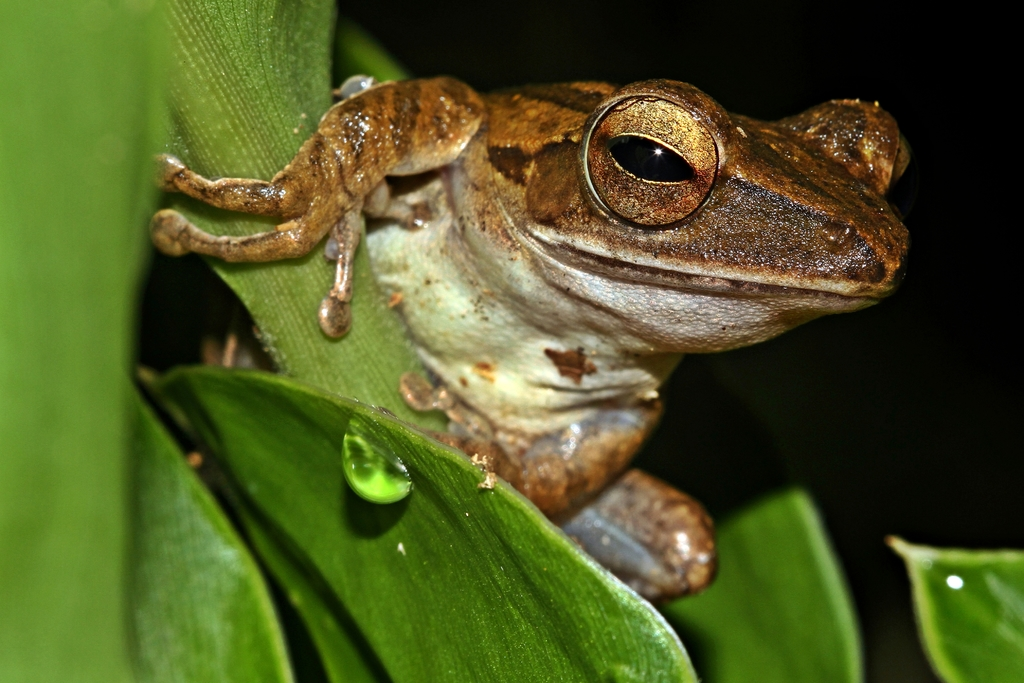Frog: (150, 77, 911, 601)
